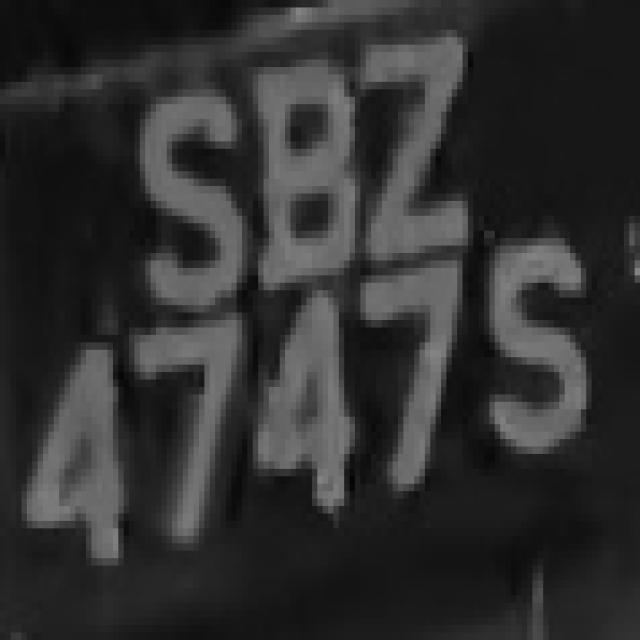4: (11, 290, 134, 596), (242, 268, 366, 551)
7: (129, 283, 264, 558), (355, 223, 473, 506)
B: (242, 37, 366, 305)
S: (473, 231, 613, 484), (124, 82, 247, 312)
Z: (344, 30, 490, 260)
